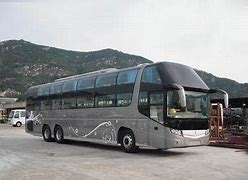bigcar: (19, 57, 225, 152)
